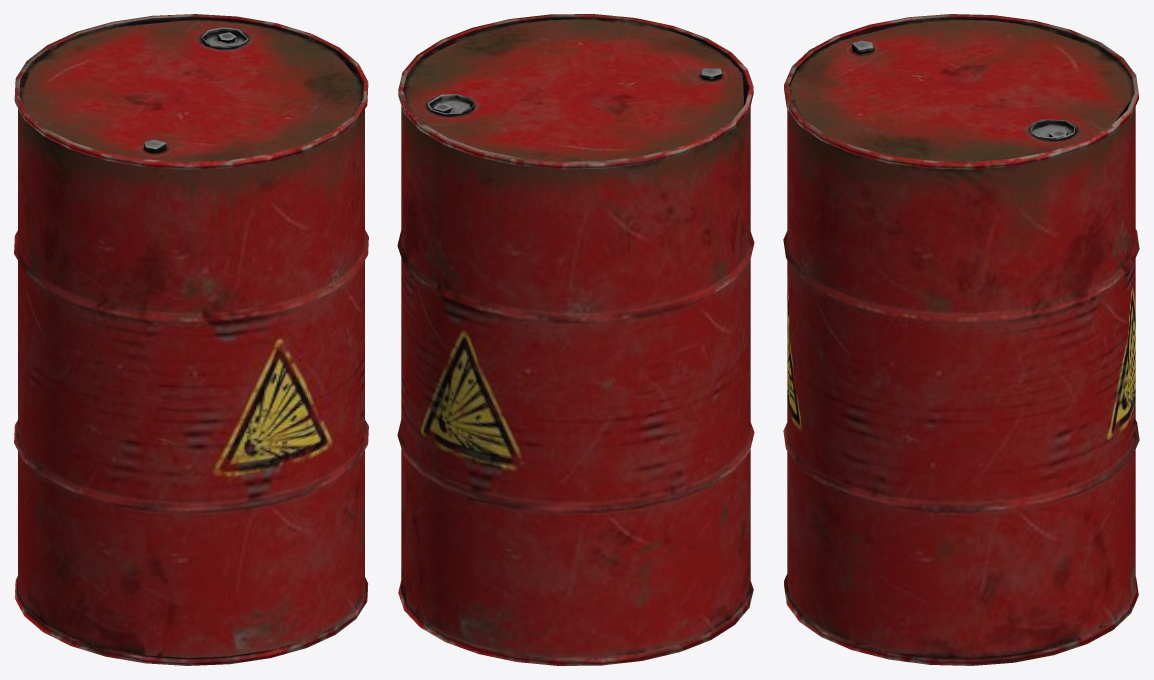
File: Barrel_01.glb
3 renders of one model, left to right at view 1: azimuth 30°, elevation 25°; view 2: azimuth 150°, elevation 25°; view 3: azimuth 270°, elevation 25°, orthographic.
Visible parts, largest first — view 1: Barrel_01; view 2: Barrel_01; view 3: Barrel_01.
Boxes of the visible parts, bbox=[...] form: Barrel_01: bbox=[14, 14, 368, 665]; Barrel_01: bbox=[397, 14, 754, 665]; Barrel_01: bbox=[783, 14, 1139, 665].
Size of the model in its own units: 0.5627 by 0.8789 by 0.5627.
1 material, 1 textured.
